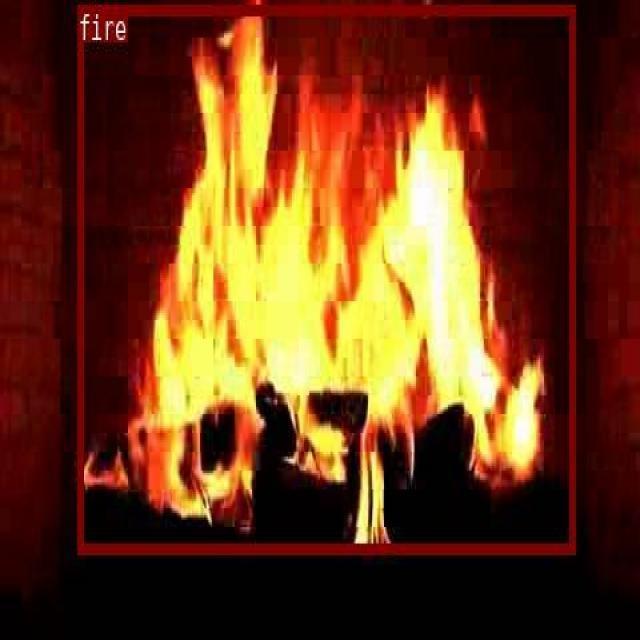fire: (77, 3, 574, 551)
